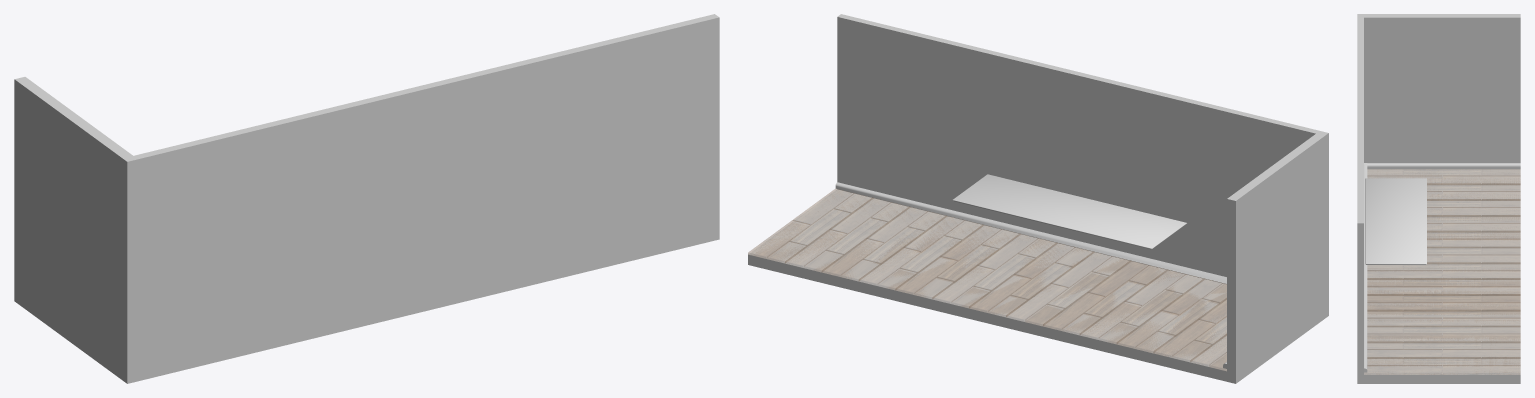
File: FirstG1.glb
3 views of the same model, side by side, from view 1: azimuth 30°, elevation 25°; view 2: azimuth 150°, elevation 25°; view 3: azimuth 270°, elevation 25° (orthographic). The views are drawn at different scales.
Parts seen in each view (by area): view 1: Wall; view 2: Wall, Floor, Desk, Cube; view 3: Wall, Floor, Desk, Cube.
Part boxes in pixels (<box>): Wall: <box>14,14,719,383</box>; Wall: <box>748,14,1328,383</box>; Floor: <box>748,189,1226,370</box>; Desk: <box>952,174,1186,249</box>; Cube: <box>835,182,1226,368</box>; Wall: <box>1357,14,1520,383</box>; Floor: <box>1364,169,1520,374</box>; Desk: <box>1365,178,1426,264</box>; Cube: <box>1364,163,1520,372</box>.
Size of the model in its own units: 6.41 by 2.3 by 2.12.
2 materials, 1 textured.
